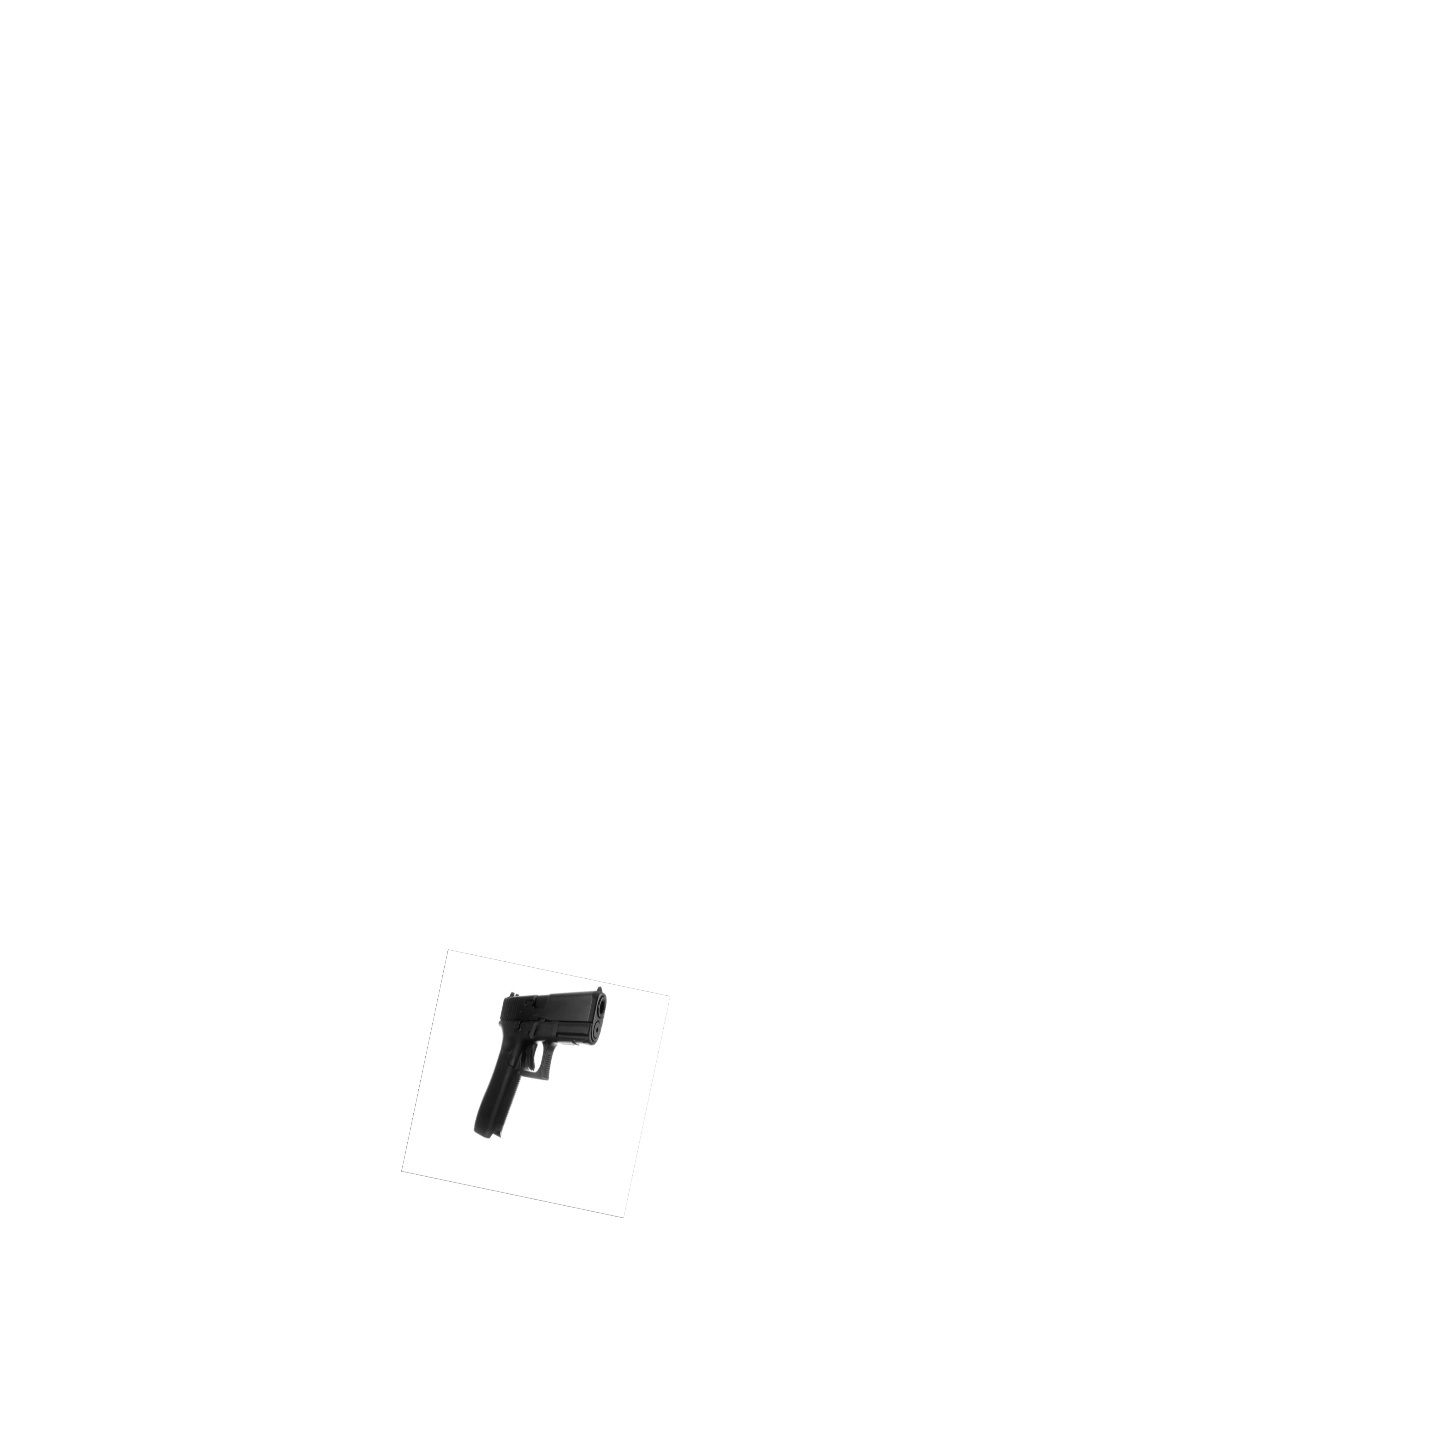gun: (474, 988, 608, 1136)
